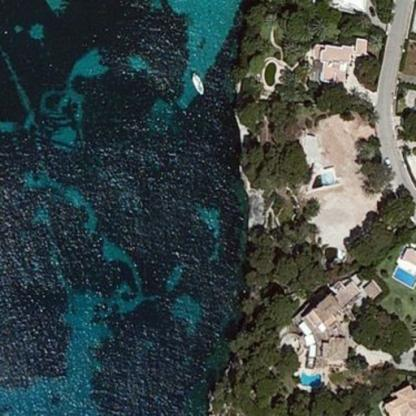ship: (181, 64, 209, 101)
